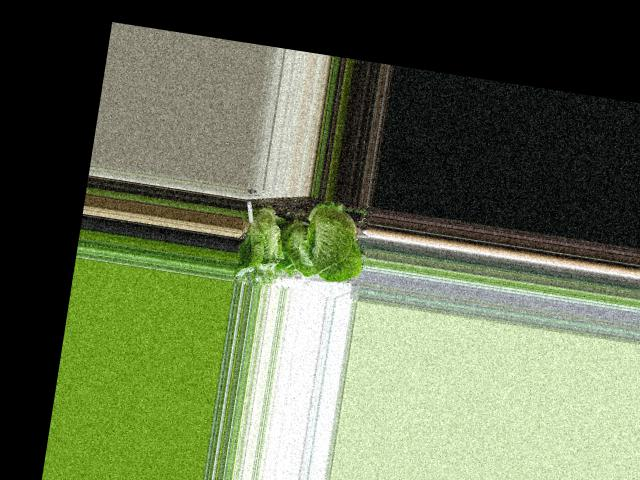lettuce: (239, 195, 293, 281)
